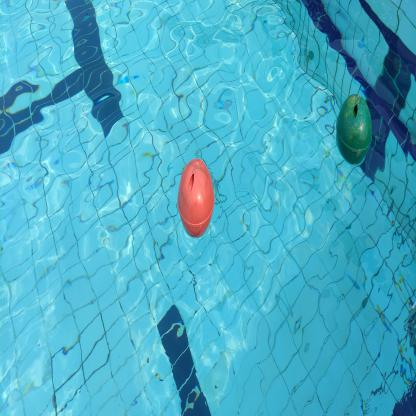green_buoy: (333, 89, 374, 168)
red_buoy: (176, 156, 215, 240)
